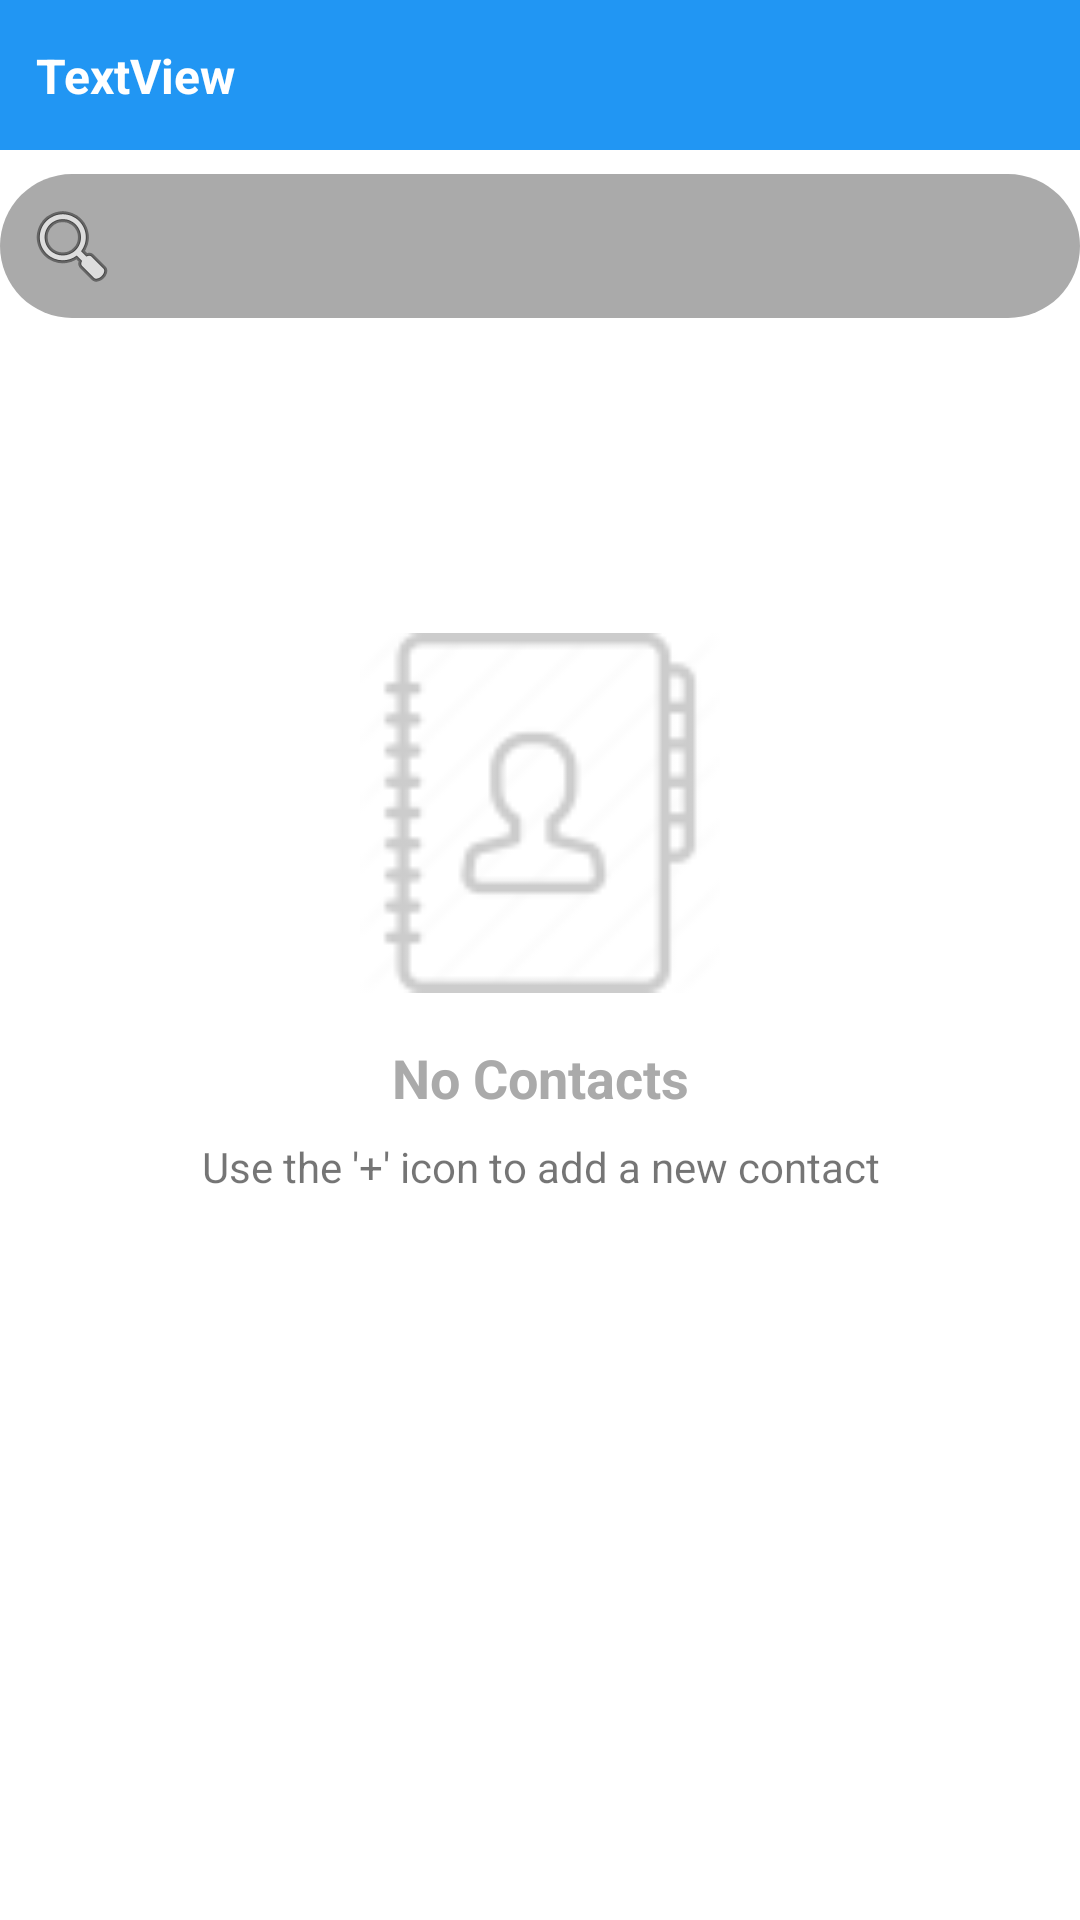

Screen size 1080px×1920px. Icon name, then its center in pixels as (x,y):
address book: (540,813)
